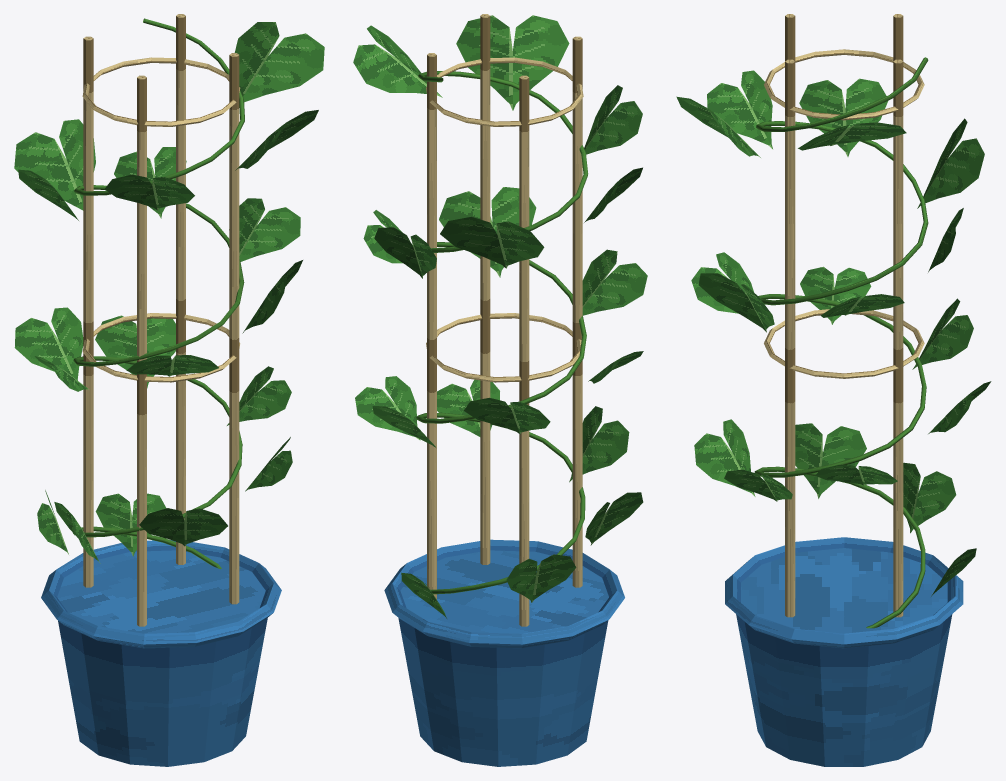
File: asagao_vine.glb
The picture shows the model from 3 angles, left to right: view 1: azimuth 30°, elevation 25°; view 2: azimuth 150°, elevation 25°; view 3: azimuth 270°, elevation 25°; orthographic projection.
Visible parts, largest first — view 1: Cone; view 2: Cone; view 3: Cone.
Part boxes in pixels (x1,y1,x2,y2): Cone: (14,14,324,766); Cone: (353,14,647,766); Cone: (676,14,991,766).
Bounding box in the file's own units: 0.3153 × 0.75 × 0.3095.
5 materials, 5 textured.
